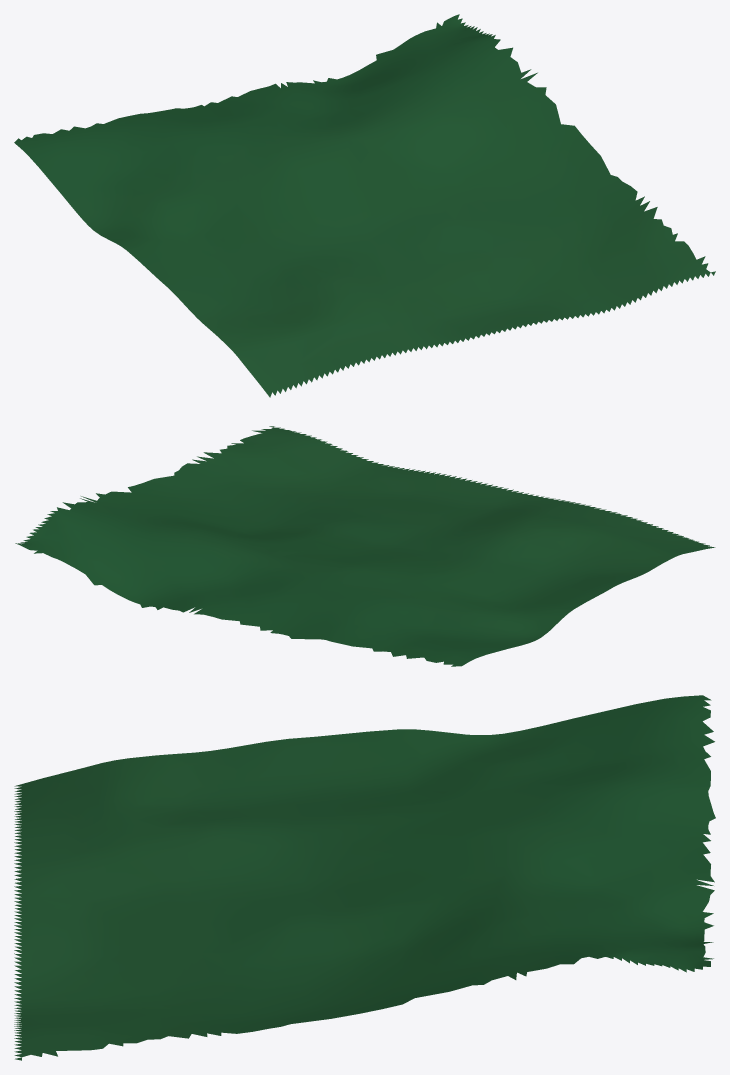
The model's file is payo_land_x2_y4_lod1.glb.
3 views of the same model, one above another, from view 1: azimuth 30°, elevation 25°; view 2: azimuth 150°, elevation 25°; view 3: azimuth 270°, elevation 25° (orthographic). The views are drawn at different scales.
Visible parts, largest first — view 1: payo_land_x2_y4; view 2: payo_land_x2_y4; view 3: payo_land_x2_y4.
Boxes of the visible parts, <box> form: payo_land_x2_y4: <box>14,14,715,397</box>; payo_land_x2_y4: <box>15,426,715,666</box>; payo_land_x2_y4: <box>14,695,715,1060</box>.
Bounding box in the file's own units: 262 × 49.67 × 260.
